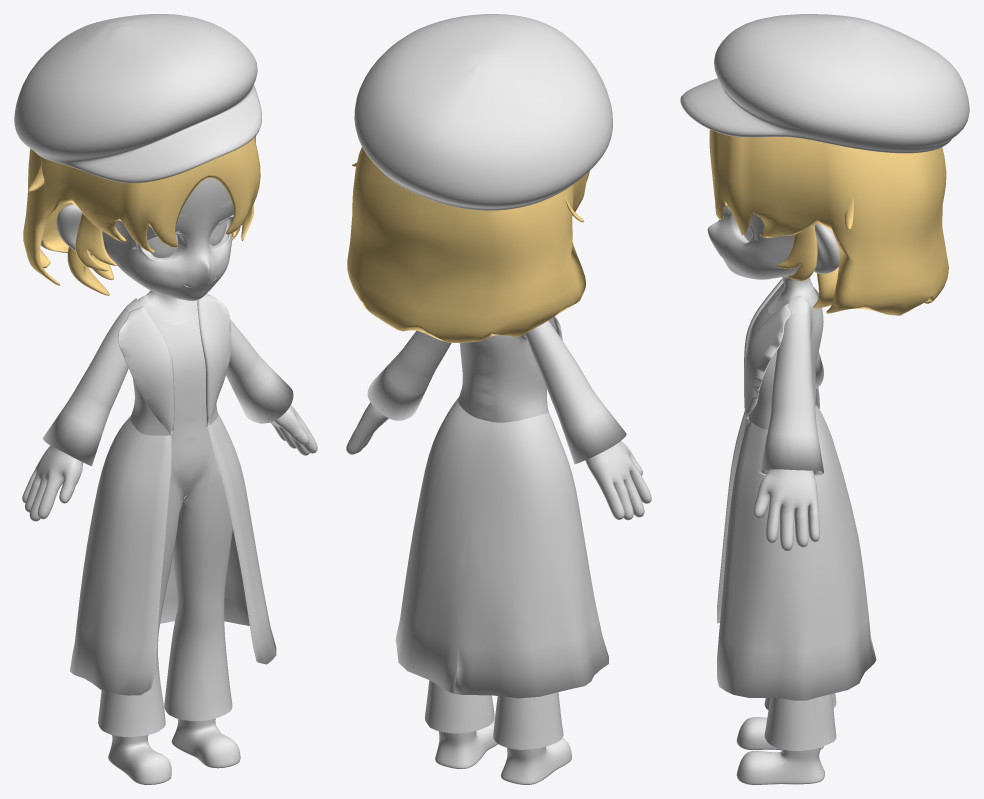
3 renders of one model, left to right at view 1: azimuth 30°, elevation 25°; view 2: azimuth 150°, elevation 25°; view 3: azimuth 270°, elevation 25°, orthographic. The views are drawn at different scales.
Visible parts, largest first — view 1: 衣服, 小红帽, 前发, 身体, 鞋子, 后发; view 2: 衣服, 小红帽, 前发, 身体, 鞋子; view 3: 衣服, 小红帽, 前发, 身体, 鞋子, 后发.
Part boxes in pixels (x1,y1,x2,y2): 衣服: (42,293,293,736); 小红帽: (14,14,261,183); 前发: (23,136,260,285); 身体: (22,178,317,521); 鞋子: (108,718,240,784); 后发: (67,247,113,295); 衣服: (367,316,626,749); 小红帽: (354,14,612,210); 前发: (347,147,589,342); 身体: (346,402,651,520); 鞋子: (435,721,571,784); 衣服: (717,279,876,750); 小红帽: (680,14,969,153); 前发: (709,129,948,315); 身体: (707,205,839,551); 鞋子: (736,717,824,784); 后发: (813,267,838,308).
Bounding box in the file's own units: 68.38 × 167 × 59.89.
